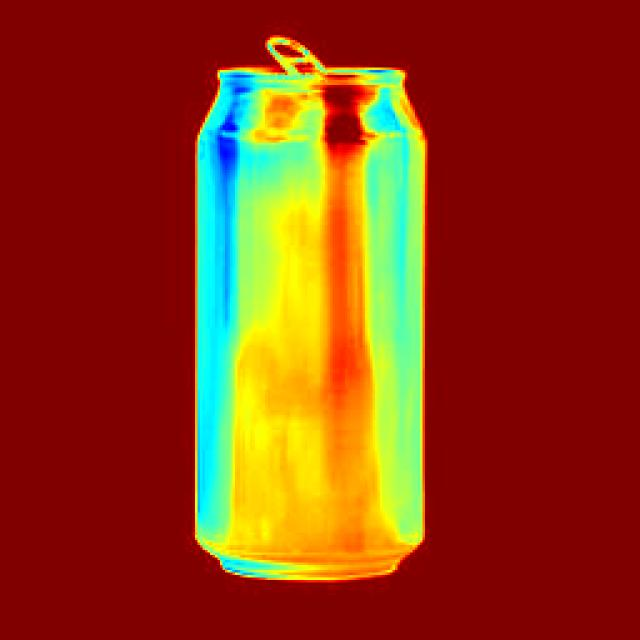Aluminium Food Cans: (194, 41, 420, 582)
